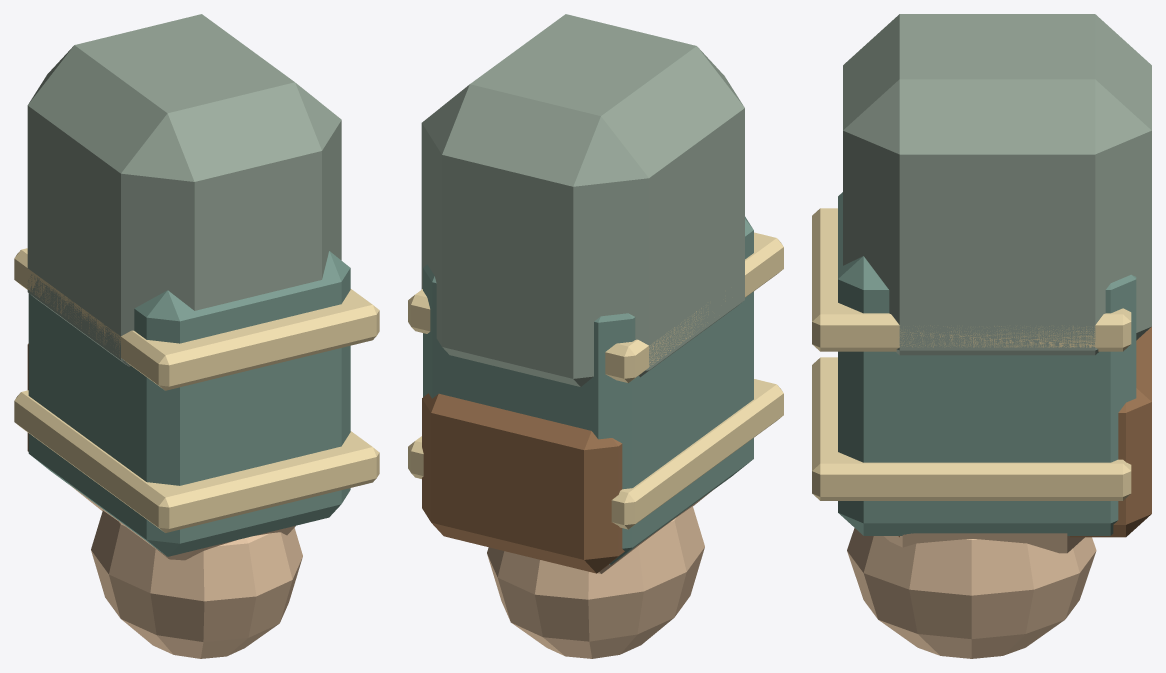
Rendered from Dragon_Runner_LeftArm.fbx.
The picture shows the model from 3 angles, left to right: view 1: azimuth 30°, elevation 25°; view 2: azimuth 150°, elevation 25°; view 3: azimuth 270°, elevation 25°; orthographic projection. The views are drawn at different scales.
Visible parts, largest first — view 1: Dragon_Runner_LeftArm; view 2: Dragon_Runner_LeftArm; view 3: Dragon_Runner_LeftArm.
Part boxes in pixels (<box>): Dragon_Runner_LeftArm: <box>14,14,379,658</box>; Dragon_Runner_LeftArm: <box>408,14,783,658</box>; Dragon_Runner_LeftArm: <box>812,14,1151,658</box>.
Bounding box in the file's own units: 26 × 64.62 × 33.
